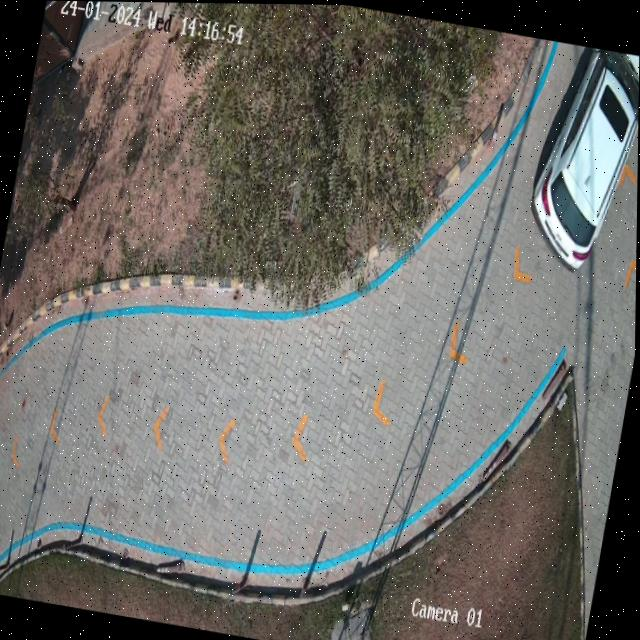car: (530, 47, 639, 272)
